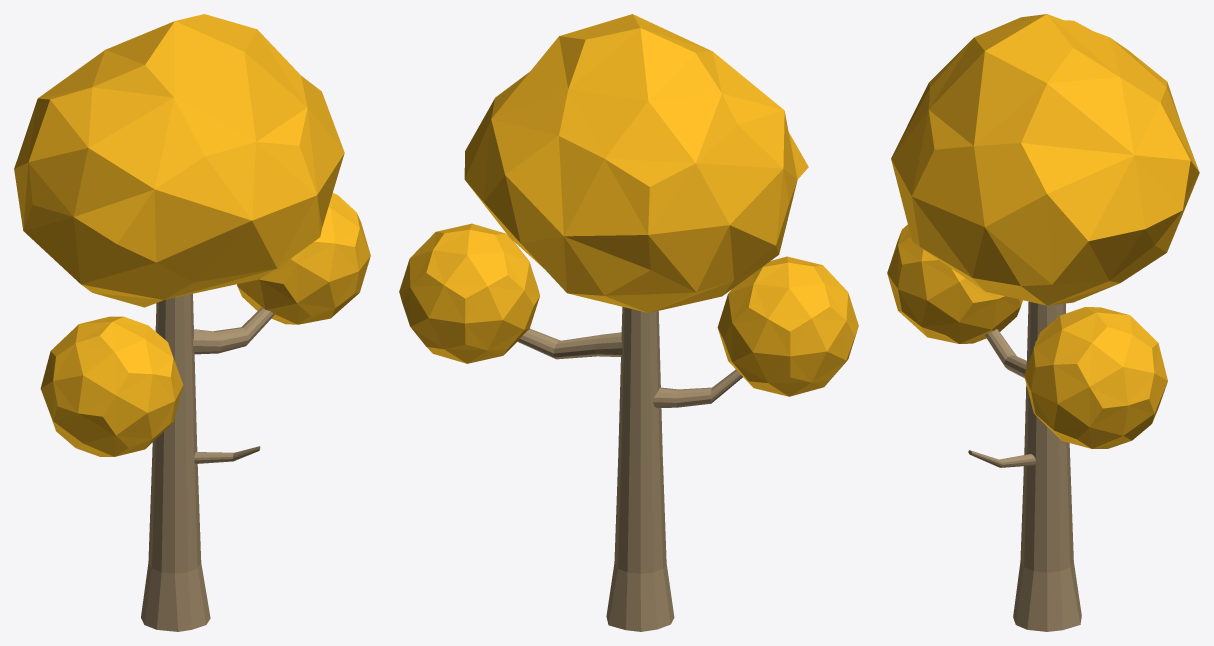
File: more more tree.fbx
3 renders of one model, left to right at view 1: azimuth 30°, elevation 25°; view 2: azimuth 150°, elevation 25°; view 3: azimuth 270°, elevation 25°, orthographic. The views are drawn at different scales.
Parts seen in each view (by area): view 1: tree_009_autumn; view 2: tree_009_autumn; view 3: tree_009_autumn.
Part boxes in pixels (bbox=[...]): tree_009_autumn: bbox=[14, 14, 370, 631]; tree_009_autumn: bbox=[399, 14, 858, 631]; tree_009_autumn: bbox=[887, 14, 1199, 631].
Bounding box in the file's own units: 3.92 × 5.92 × 2.78.
